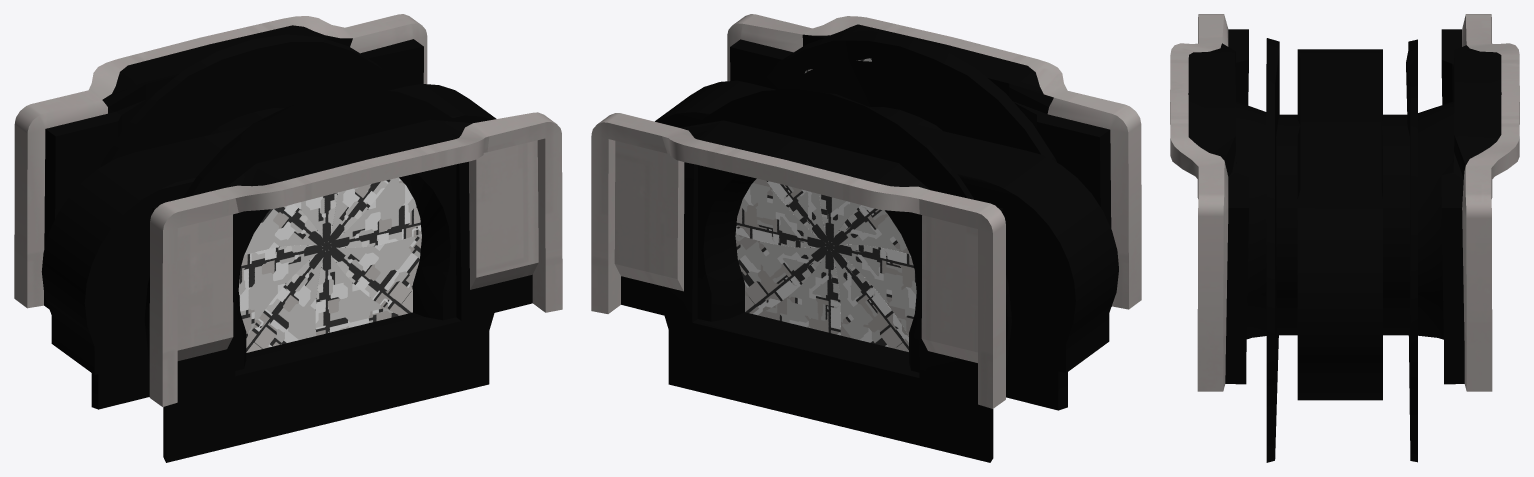
File: baked_big_door 1.fbx
3 renders of one model, left to right at view 1: azimuth 30°, elevation 25°; view 2: azimuth 150°, elevation 25°; view 3: azimuth 270°, elevation 25°, orthographic.
Parts seen in each view (by area): view 1: front, vents, panels, Drzwi zewnętrzne 5.001, Drzwi zewnętrzne 7.001, Drzwi zewnętrzne 8.001, Drzwi zewnętrzne 4.001, Drzwi zewnętrzne 6.001, Drzwi zewnętrzne 1.001, Drzwi zewnętrzne 3.001, Drzwi zewnętrzne 2.001; view 2: front, vents, panels, Drzwi zewnętrzne 5.002, Drzwi zewnętrzne 7.002, Drzwi zewnętrzne 8.002, Drzwi zewnętrzne 4.002, Drzwi zewnętrzne 6.002, Drzwi zewnętrzne 1.002, Drzwi zewnętrzne 3.002, Drzwi zewnętrzne 2.002; view 3: front, vents.
Boxes of the visible parts, <box> form: front: <box>41,25,532,462</box>; vents: <box>14,14,562,406</box>; panels: <box>177,140,538,360</box>; Drzwi zewnętrzne 5.001: <box>327,233,421,315</box>; Drzwi zewnętrzne 7.001: <box>246,247,326,352</box>; Drzwi zewnętrzne 8.001: <box>238,245,326,337</box>; Drzwi zewnętrzne 4.001: <box>327,177,421,247</box>; Drzwi zewnętrzne 6.001: <box>315,247,399,335</box>; Drzwi zewnętrzne 1.001: <box>244,204,326,255</box>; Drzwi zewnętrzne 3.001: <box>327,179,390,245</box>; Drzwi zewnętrzne 2.001: <box>294,193,337,246</box>; front: <box>621,24,1118,462</box>; vents: <box>591,14,1141,408</box>; panels: <box>614,141,977,362</box>; Drzwi zewnętrzne 5.002: <box>735,234,829,314</box>; Drzwi zewnętrzne 7.002: <box>829,246,908,351</box>; Drzwi zewnętrzne 8.002: <box>830,244,916,335</box>; Drzwi zewnętrzne 4.002: <box>735,178,828,247</box>; Drzwi zewnętrzne 6.002: <box>757,247,840,335</box>; Drzwi zewnętrzne 1.002: <box>830,205,909,254</box>; Drzwi zewnętrzne 3.002: <box>766,181,829,245</box>; Drzwi zewnętrzne 2.002: <box>819,194,860,245</box>; front: <box>1188,29,1501,462</box>; vents: <box>1170,14,1519,391</box>.
Size of the model in its own units: 1142 by 793 by 765.
